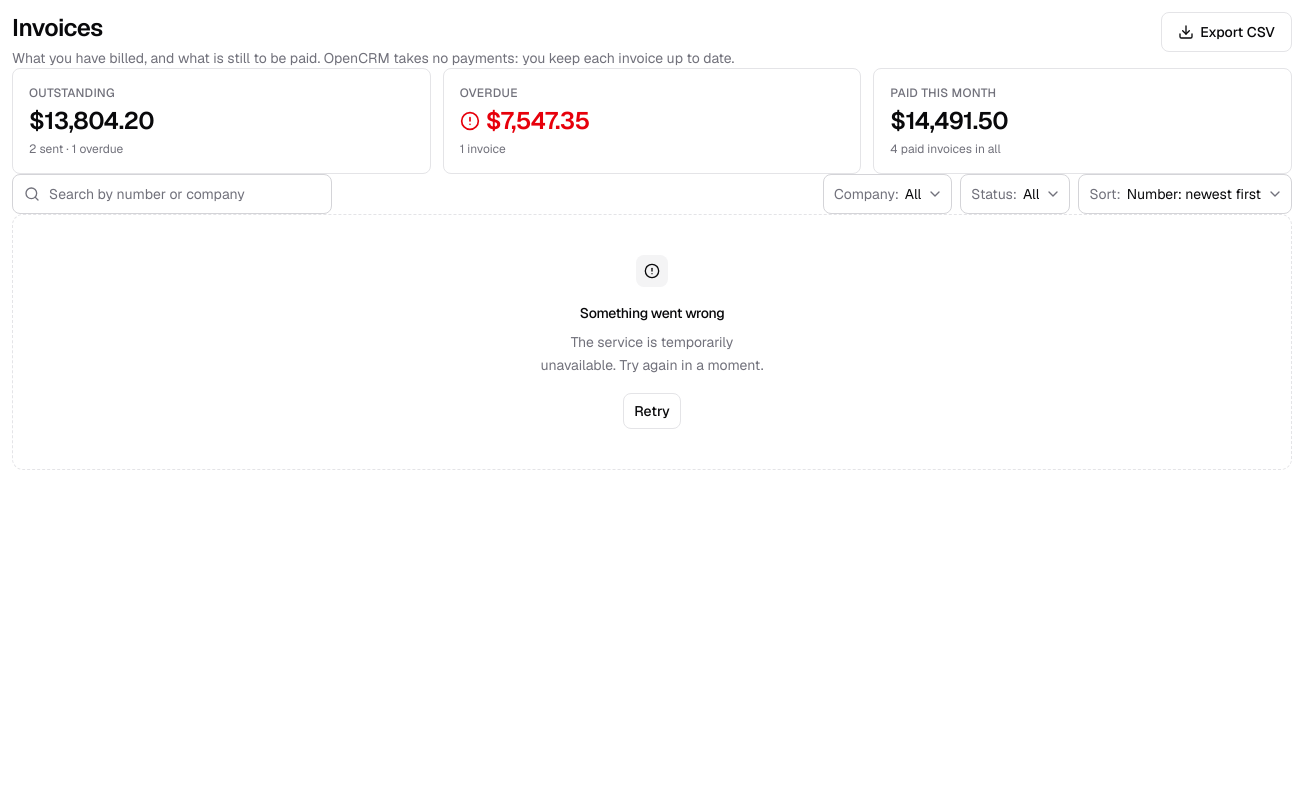
it: InvoicesPage › shows a failed load with Retry
Expected: the message shows "The service is temporarily unavailable. Try again in a moment.", [540,333,764,374]
Click the button "Retry": [652, 410] box [623,392,681,428]
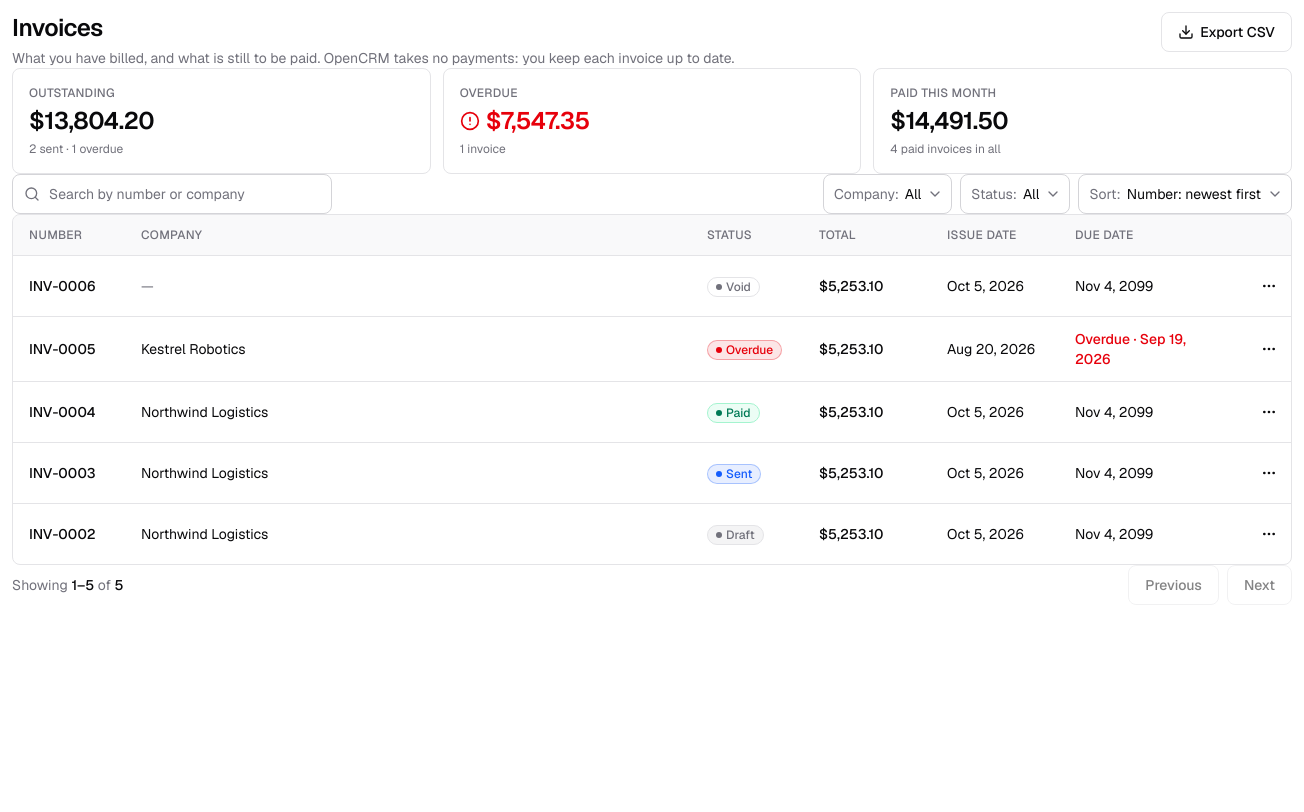
Expected: the table named "Invoices" is shown, [13,215,1291,564]
Expected: the link "INV-0006" is shown, [29,276,95,294]
